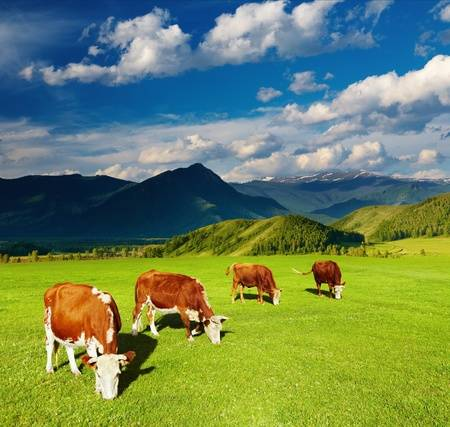sheep: (41, 280, 136, 400), (128, 267, 225, 349), (225, 260, 283, 308), (308, 259, 347, 302)
